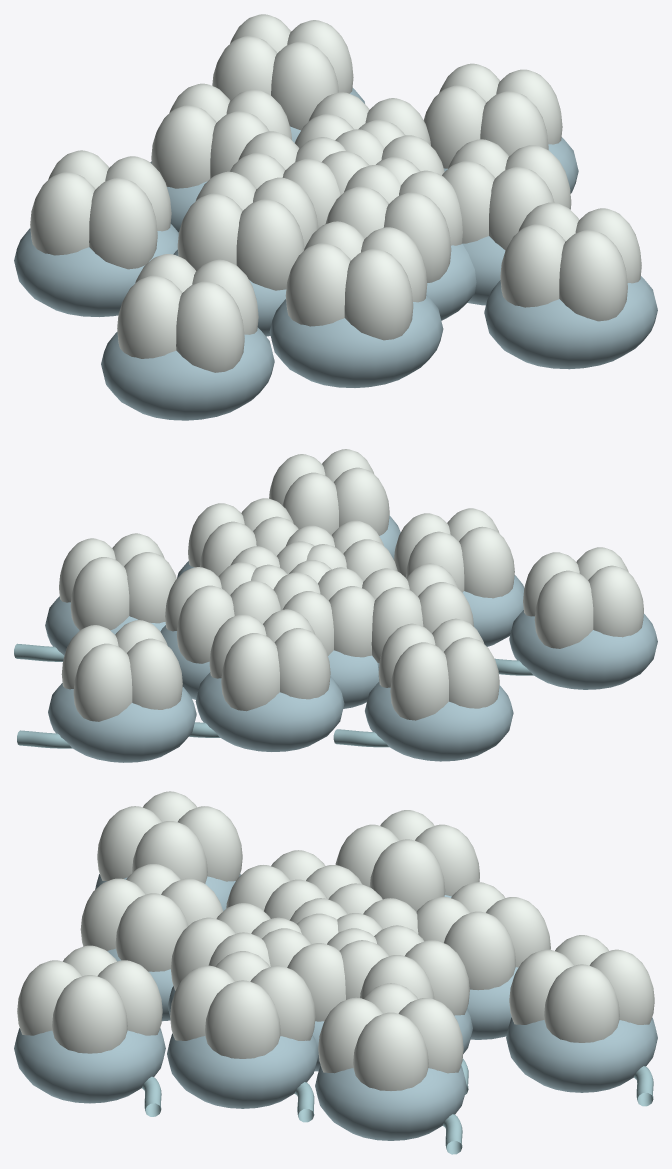
File: bio_oxygen_reef_16_near.glb
3 renders of one model, top to bottom at view 1: azimuth 30°, elevation 25°; view 2: azimuth 150°, elevation 25°; view 3: azimuth 270°, elevation 25°, orthographic. The views are drawn at different scales.
Parts seen in each view (by area): view 1: Lobed gas sac.036, Lobed gas sac.028, Lobed gas sac.040, Lobed gas sac.048, Lobed gas sac.016, Lobed gas sac.044, Lobed gas sac.032, Photosynthetic cushion.012, Photosynthetic cushion.007, Photosynthetic cushion.010, Lobed gas sac.024, Lobed gas sac.020 (+10 smaller); view 2: Lobed gas sac.036, Lobed gas sac.048, Lobed gas sac.024, Lobed gas sac.044, Lobed gas sac.032, Lobed gas sac.040, Lobed gas sac.028, Photosynthetic cushion.009, Photosynthetic cushion.011, Photosynthetic cushion.012, Photosynthetic cushion.006, Lobed gas sac.012 (+13 smaller); view 3: Lobed gas sac.040, Lobed gas sac.020, Lobed gas sac.044, Lobed gas sac.032, Lobed gas sac.048, Lobed gas sac.028, Lobed gas sac.036, Lobed gas sac.024, Photosynthetic cushion.011, Photosynthetic cushion.008, Photosynthetic cushion.010, Photosynthetic cushion.005 (+12 smaller).
Part boxes in pixels (x1,y1,x2,y2): Lobed gas sac.036: (30, 150, 171, 269); Lobed gas sac.028: (285, 221, 427, 340); Lobed gas sac.040: (500, 202, 641, 321); Lobed gas sac.048: (117, 254, 258, 372); Lobed gas sac.016: (177, 171, 318, 290); Lobed gas sac.044: (212, 14, 353, 130); Lobed gas sac.032: (423, 63, 562, 168); Photosynthetic cushion.012: (101, 327, 274, 420); Photosynthetic cushion.007: (269, 295, 443, 387); Photosynthetic cushion.010: (484, 276, 657, 369); Lobed gas sac.024: (151, 83, 291, 188); Lobed gas sac.020: (442, 139, 571, 250); Lobed gas sac.036: (378, 618, 499, 720); Lobed gas sac.048: (523, 547, 643, 648); Lobed gas sac.024: (209, 609, 330, 711); Lobed gas sac.044: (61, 620, 182, 721); Lobed gas sac.032: (59, 533, 176, 630); Lobed gas sac.040: (269, 449, 389, 535); Lobed gas sac.028: (394, 508, 514, 598); Photosynthetic cushion.009: (365, 682, 513, 761); Photosynthetic cushion.011: (48, 683, 196, 762); Photosynthetic cushion.012: (509, 610, 657, 689); Photosynthetic cushion.006: (195, 672, 344, 751); Lobed gas sac.012: (165, 562, 280, 663); Lobed gas sac.040: (17, 945, 162, 1053); Lobed gas sac.020: (170, 951, 315, 1058); Lobed gas sac.044: (509, 935, 654, 1042); Lobed gas sac.032: (318, 983, 463, 1090); Lobed gas sac.048: (97, 791, 242, 883); Lobed gas sac.028: (80, 864, 223, 971); Lobed gas sac.036: (335, 810, 479, 911); Lobed gas sac.024: (416, 882, 550, 990); Photosynthetic cushion.011: (506, 1017, 657, 1092); Photosynthetic cushion.008: (315, 1065, 466, 1140); Photosynthetic cushion.010: (14, 1028, 165, 1103); Photosynthetic cushion.005: (167, 1033, 318, 1108).
Bounding box in the file's own units: 1.99 × 0.45 × 2.03.
